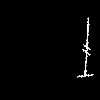treble_crochet: (78, 18, 92, 76)
